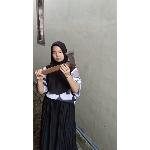Kapak: (34, 48, 78, 80)
